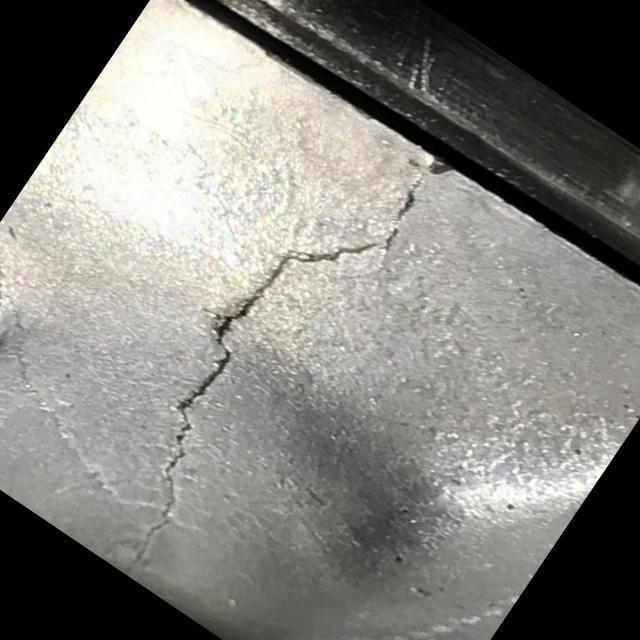defect: (133, 160, 451, 578)
